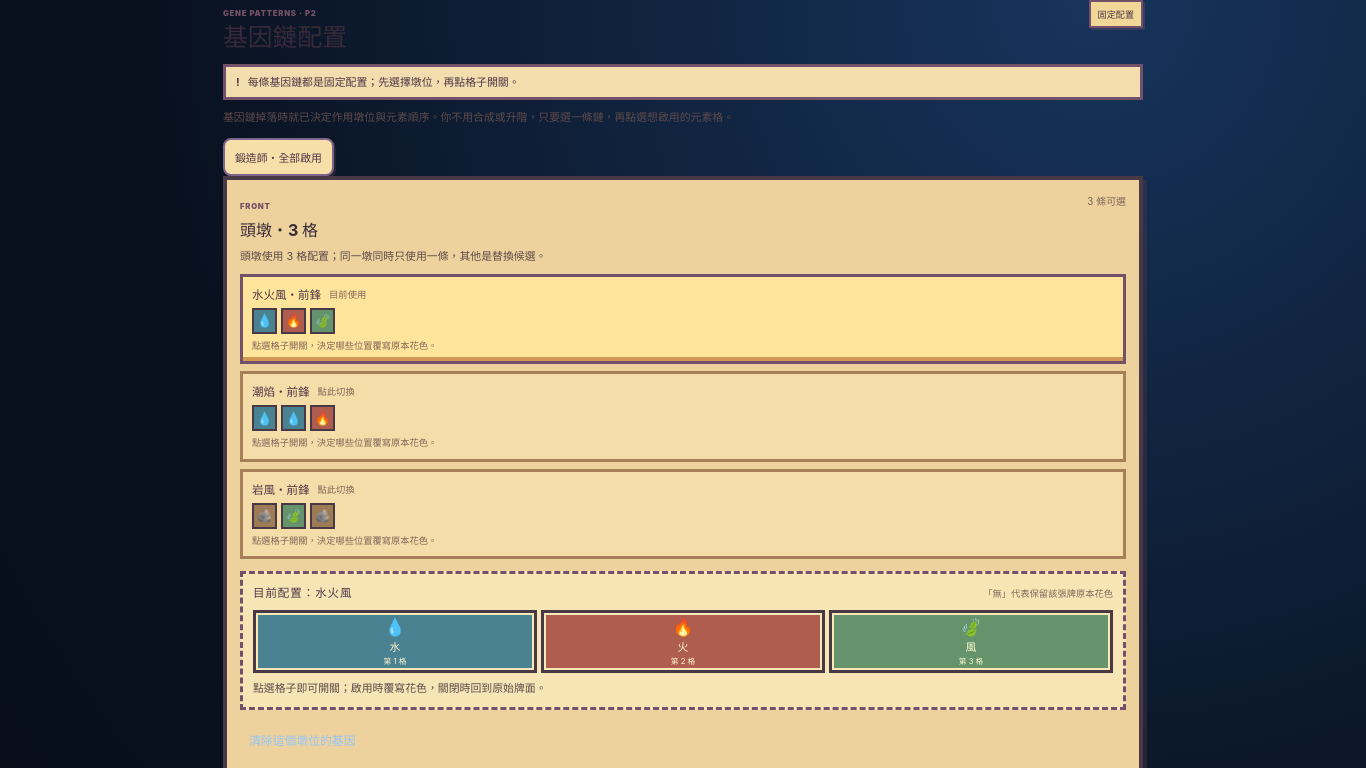
GeneWorkshopView › lets the smith activate all selected pattern slots once per run
The image size is (1366, 768).
Click the button "鍛造師・全部啟用" at (278, 157), box [223,138,334,176]
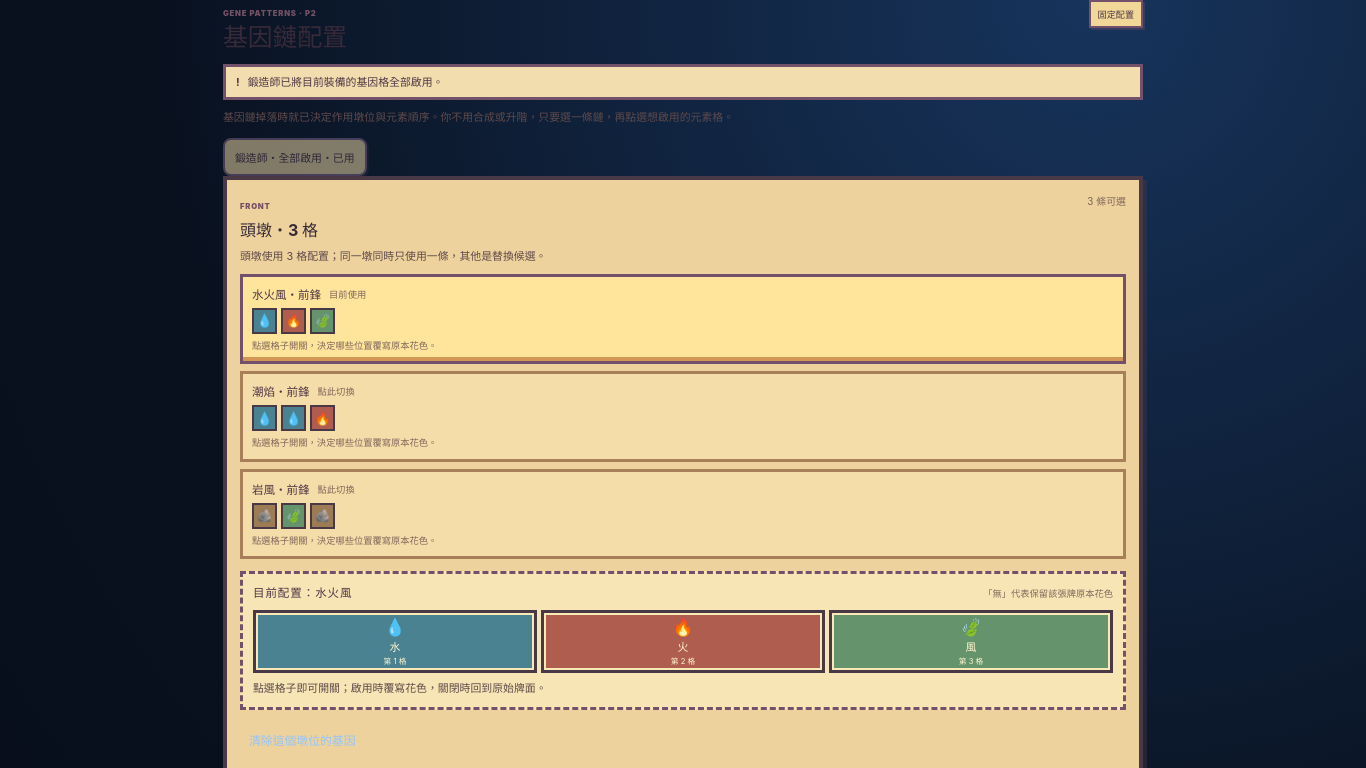
Now the message shows "全部啟用", box [248,74,444,88]
Now the button "鍛造師・全部啟用・已用" is disabled, box [223,138,367,176]
